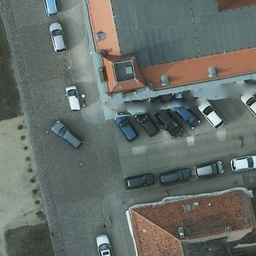car: (196, 97, 224, 128), (52, 120, 83, 148), (194, 157, 225, 179), (157, 165, 192, 184), (49, 21, 67, 56), (135, 111, 160, 136), (113, 115, 136, 141), (156, 113, 183, 135), (65, 82, 83, 113), (122, 172, 156, 188), (231, 154, 256, 170), (177, 109, 198, 128), (95, 234, 113, 256), (237, 95, 255, 117), (40, 1, 60, 14)
